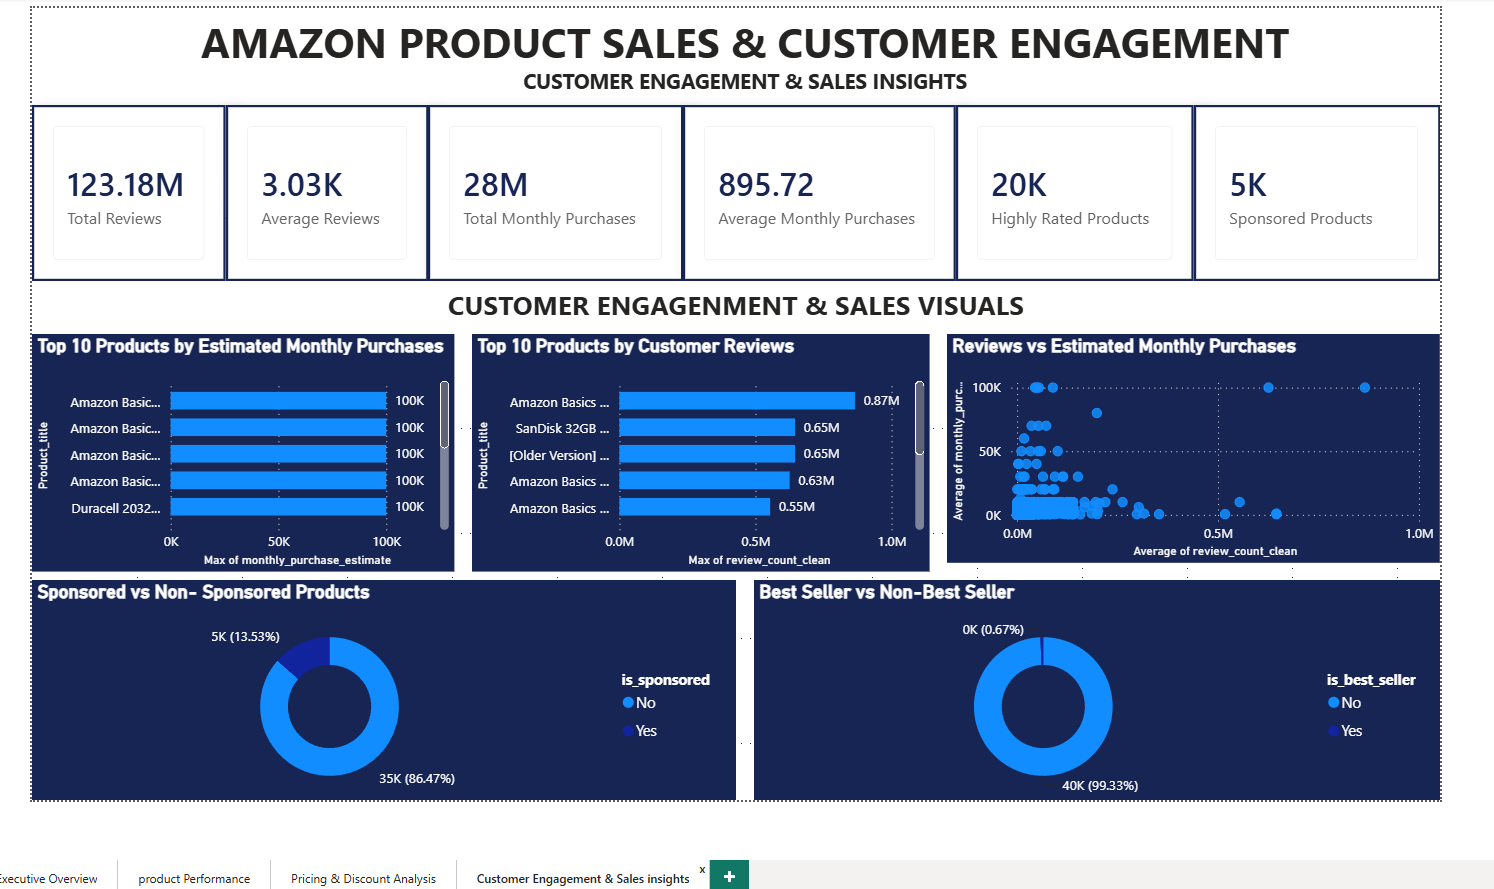

What the dashboard file says about the page in this screenshot:
{"tool":"powerbi","page":{"name":"Customer Engagement & Sales insights","canvas":[1280,720],"ordinal":3},"visuals":[{"type":"textbox","box":[16,0,1264,112],"z":0},{"type":"cardVisual","fields":{"Data":["Final clean sheet.Total Reviews"]},"box":[0,88,176,160],"z":1000},{"type":"cardVisual","fields":{"Data":["Final clean sheet.Average Reviews"]},"box":[176,88,184,160],"z":2000},{"type":"cardVisual","fields":{"Data":["Final clean sheet.Total Monthly Purchases"]},"box":[360,88,232,160],"z":3000},{"type":"cardVisual","fields":{"Data":["Final clean sheet.Average Monthly Purchases"]},"box":[592,88,248,160],"z":4000},{"type":"cardVisual","fields":{"Data":["Final clean sheet.Highly Rated Products"]},"box":[840,88,216,160],"z":5000},{"type":"cardVisual","fields":{"Data":["Final clean sheet.Sponsored Products"]},"box":[1056,88,224,160],"z":6000},{"type":"clusteredBarChart","title":"Top 10 Products by Estimated Monthly Purchases","fields":{"Category":["Final clean sheet.Product_title"],"Y":["Max(Final clean sheet.monthly_purchase_estimate)"]},"box":[0,296,384,216],"z":7000},{"type":"clusteredBarChart","title":"Top 10 Products by Customer Reviews","fields":{"Category":["Final clean sheet.Product_title"],"Y":["Max(Final clean sheet.review_count_clean)"]},"box":[400,296,416,216],"z":8000},{"type":"scatterChart","title":"Reviews vs Estimated Monthly Purchases","fields":{"X":["Avg(Final clean sheet.review_count_clean)"],"Y":["Avg(Final clean sheet.monthly_purchase_estimate)"],"Category":["Final clean sheet.product_url"]},"box":[832,296,448,208],"z":9000},{"type":"donutChart","title":"Sponsored vs Non- Sponsored Products","fields":{"Category":["Final clean sheet.is_sponsored"],"Y":["Final clean sheet.Total Products"]},"box":[0,520,640,200],"z":10000},{"type":"donutChart","title":"Best Seller vs Non-Best Seller","fields":{"Category":["Final clean sheet.is_best_seller"],"Y":["Final clean sheet.Total Products"]},"box":[656,520,624,200],"z":11000},{"type":"textbox","box":[0,248,1280,48],"z":12000}]}

Visuals, with their boxes in screenshot pixels (x1, y1, x2, y2):
textbox: (41, 0, 1444, 124)
cardVisual - Final clean sheet.Total Reviews: (23, 98, 219, 275)
cardVisual - Final clean sheet.Average Reviews: (219, 98, 423, 275)
cardVisual - Final clean sheet.Total Monthly Purchases: (423, 98, 681, 275)
cardVisual - Final clean sheet.Average Monthly Purchases: (681, 98, 956, 275)
cardVisual - Final clean sheet.Highly Rated Products: (956, 98, 1196, 275)
cardVisual - Final clean sheet.Sponsored Products: (1196, 98, 1444, 275)
"Top 10 Products by Estimated Monthly Purchases" clusteredBarChart: (23, 329, 450, 568)
"Top 10 Products by Customer Reviews" clusteredBarChart: (467, 329, 929, 568)
"Reviews vs Estimated Monthly Purchases" scatterChart: (947, 329, 1444, 560)
"Sponsored vs Non- Sponsored Products" donutChart: (23, 577, 734, 799)
"Best Seller vs Non-Best Seller" donutChart: (752, 577, 1444, 799)
textbox: (23, 275, 1444, 329)
